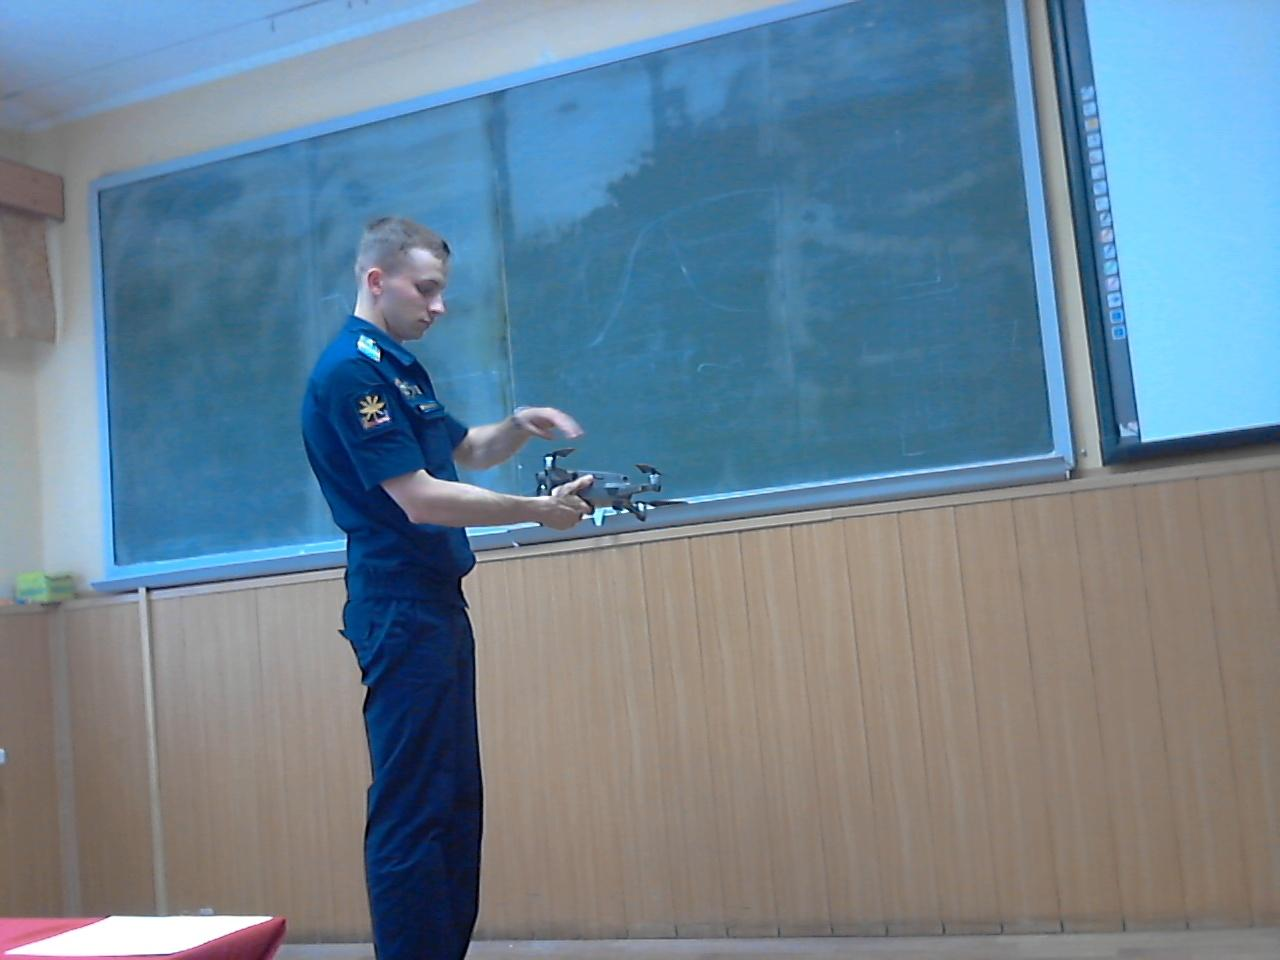drone: (506, 434, 691, 557)
